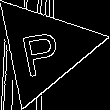P_N: (20, 21, 68, 77)
